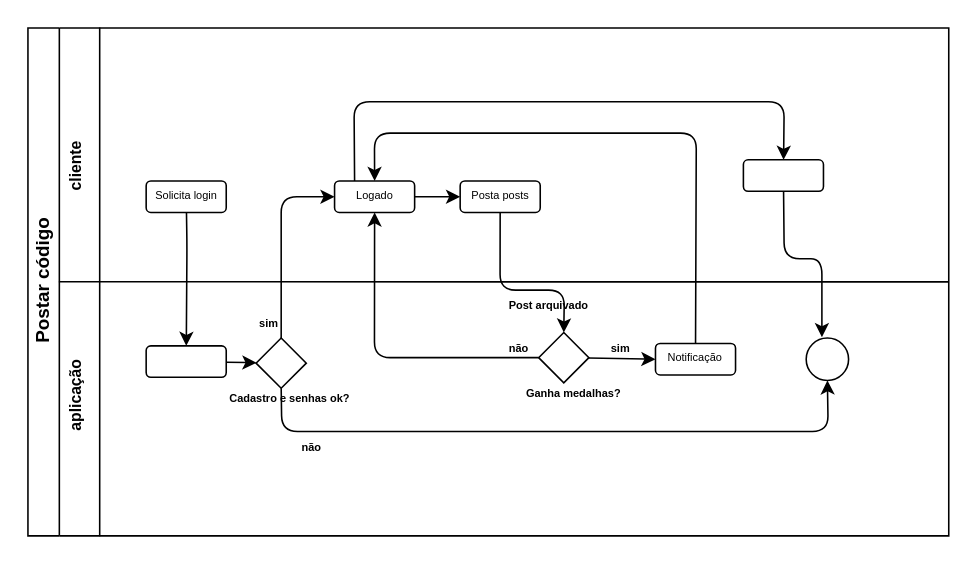
The diagram is 978 pixels wide and 565 high, and some of its shapes have lost their labels. Each missing label, with the centre of its shape:
Solicita logoff: the point at 782,174
Verifica logs: the point at 185,360
